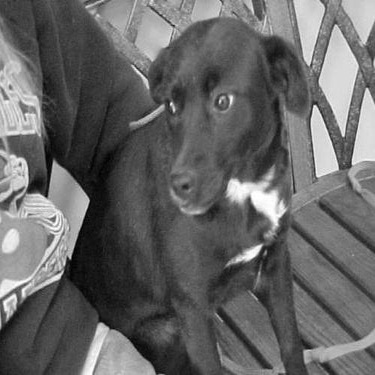dog: (61, 4, 321, 373)
